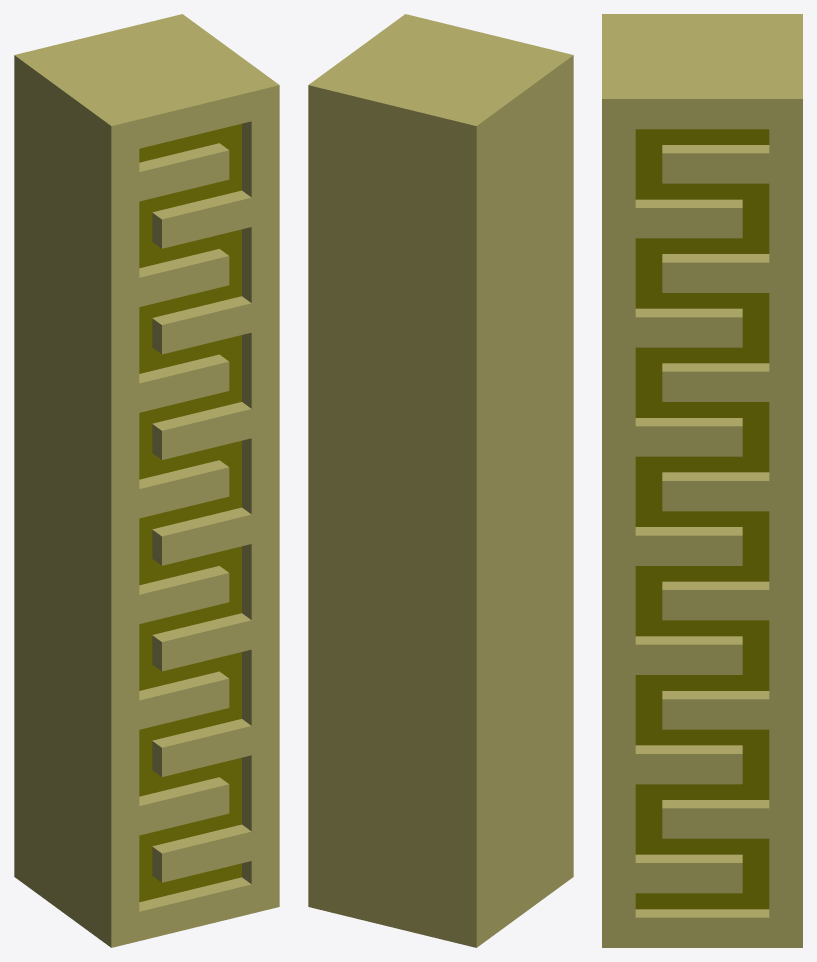
The model's file is Prop_Jungle_Temple_Pillar_Column_Markings_02.FBX.
3 renders of one model, left to right at view 1: azimuth 30°, elevation 25°; view 2: azimuth 150°, elevation 25°; view 3: azimuth 270°, elevation 25°, orthographic. The views are drawn at different scales.
Parts seen in each view (by area): view 1: Prop_Jungle_Temple_Pillar_Column_Markings_02; view 2: Prop_Jungle_Temple_Pillar_Column_Markings_02; view 3: Prop_Jungle_Temple_Pillar_Column_Markings_02.
Part boxes in pixels (left/top/right/bottom): Prop_Jungle_Temple_Pillar_Column_Markings_02: left=14, top=14, right=279, bottom=947; Prop_Jungle_Temple_Pillar_Column_Markings_02: left=308, top=14, right=573, bottom=947; Prop_Jungle_Temple_Pillar_Column_Markings_02: left=602, top=14, right=802, bottom=947.
Size of the model in its own units: 851 by 3972 by 851.
